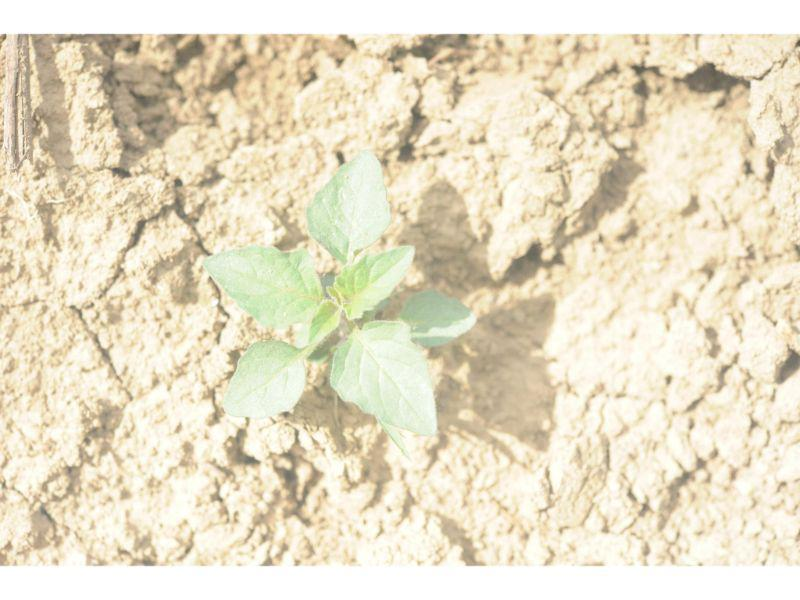nightshade: (203, 153, 476, 437)
